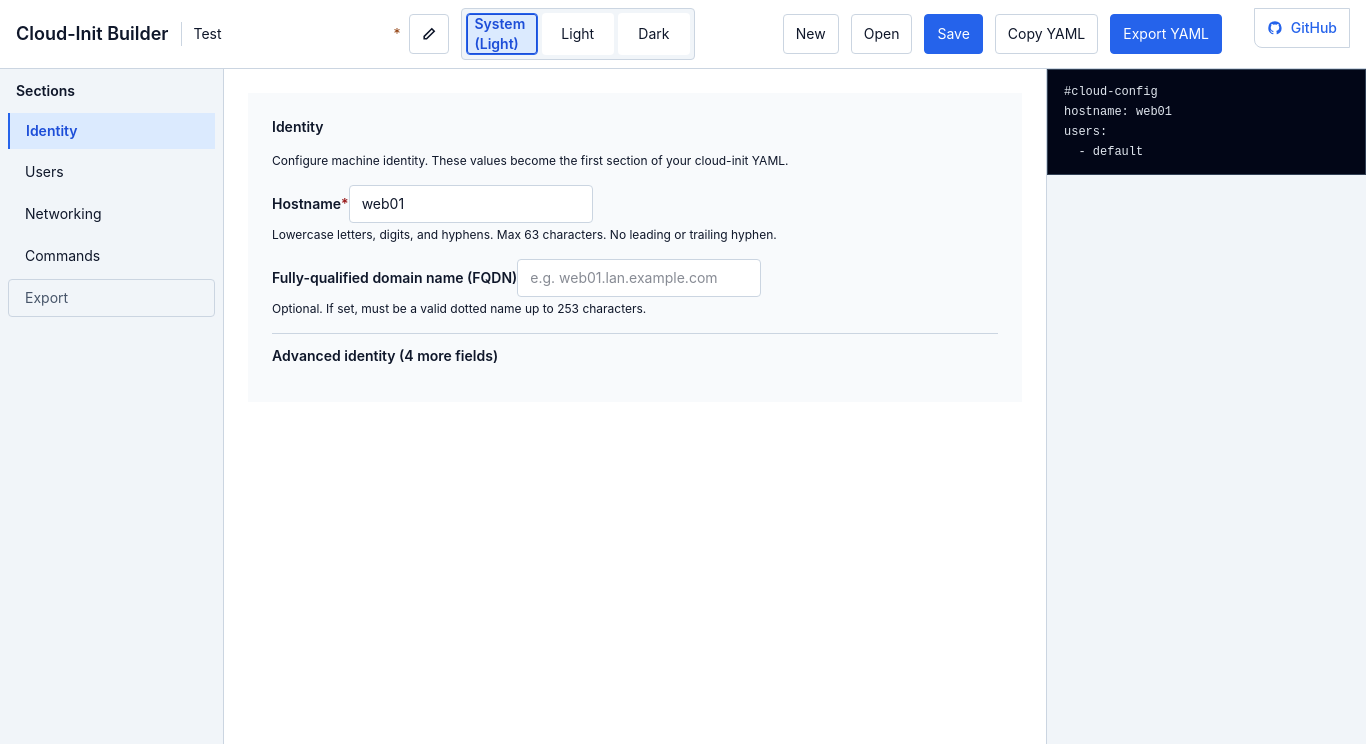
Test: UsersWorkflow remove › shows approved header metadata fallbacks
The width and height of the screenshot is (1366, 744).
Click the button "Users": x=112, y=172 [8, 153, 215, 191]
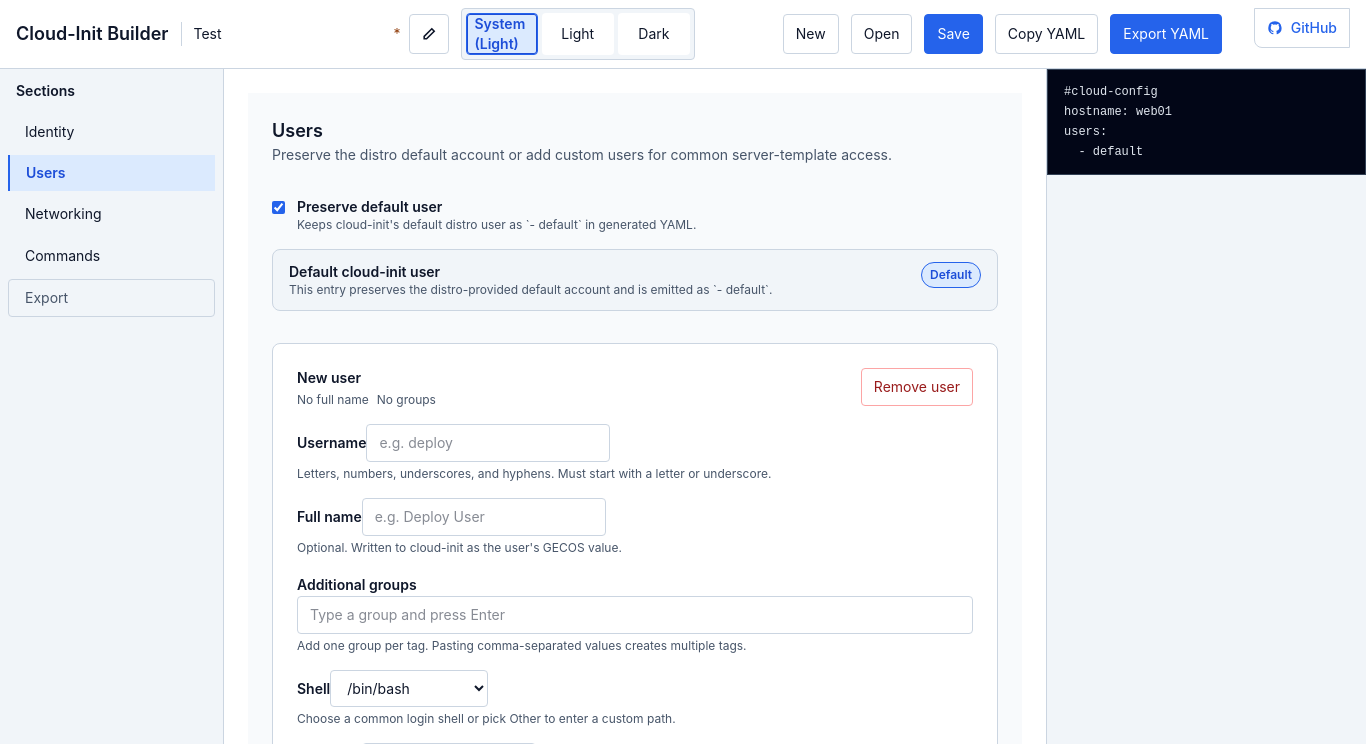
Result: the text "New user" is shown at [297, 368, 361, 388]
Result: the text "No full name" is shown at [297, 392, 369, 408]
Result: the text "No groups" is shown at [377, 392, 436, 408]
